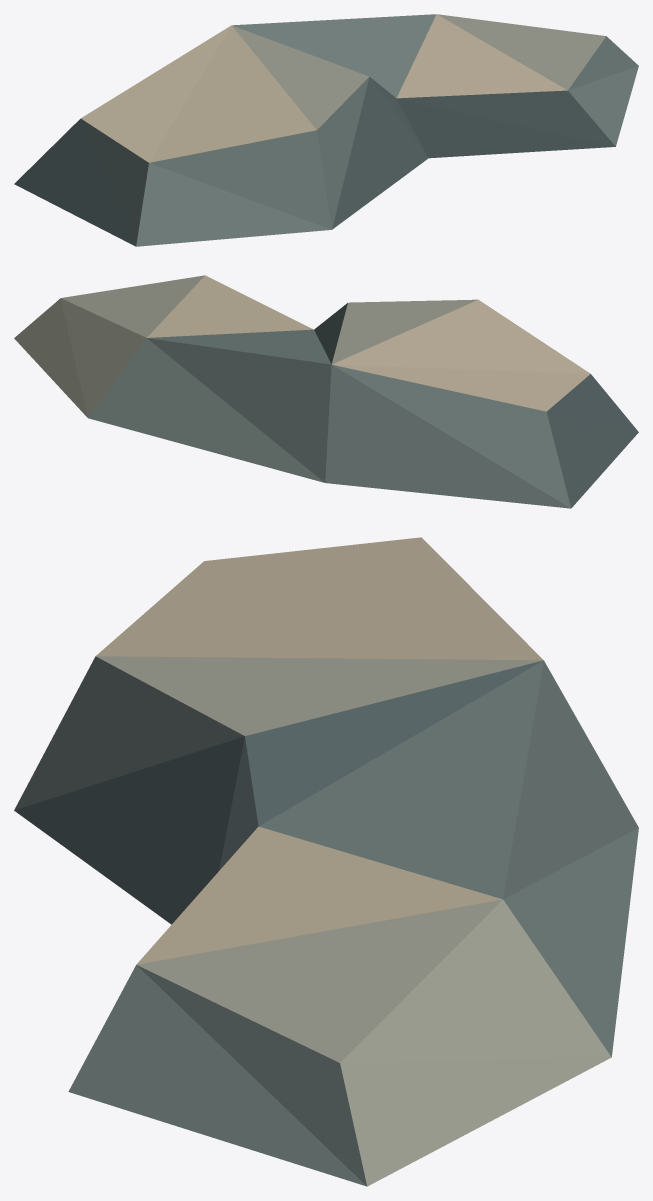
Rendered from 02_slope_connector_rock_B.obj.
The picture shows the model from 3 angles, top to bottom: view 1: azimuth 30°, elevation 25°; view 2: azimuth 150°, elevation 25°; view 3: azimuth 270°, elevation 25°; orthographic projection. The views are drawn at different scales.
Visible parts, largest first — view 1: 02_slope_connector_rock_B; view 2: 02_slope_connector_rock_B; view 3: 02_slope_connector_rock_B.
Part boxes in pixels (left/top/right/bottom): 02_slope_connector_rock_B: left=14, top=14, right=638, bottom=246; 02_slope_connector_rock_B: left=14, top=275, right=638, bottom=508; 02_slope_connector_rock_B: left=14, top=537, right=638, bottom=1186.
Bounding box in the file's own units: 1.94 × 0.3 × 0.92.
